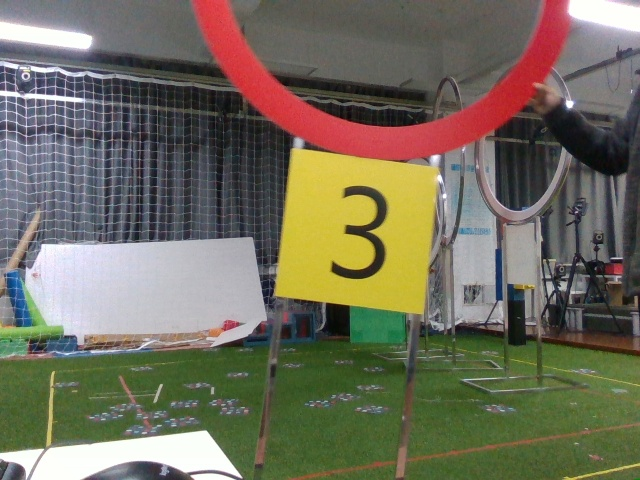target: (291, 151, 435, 307)
